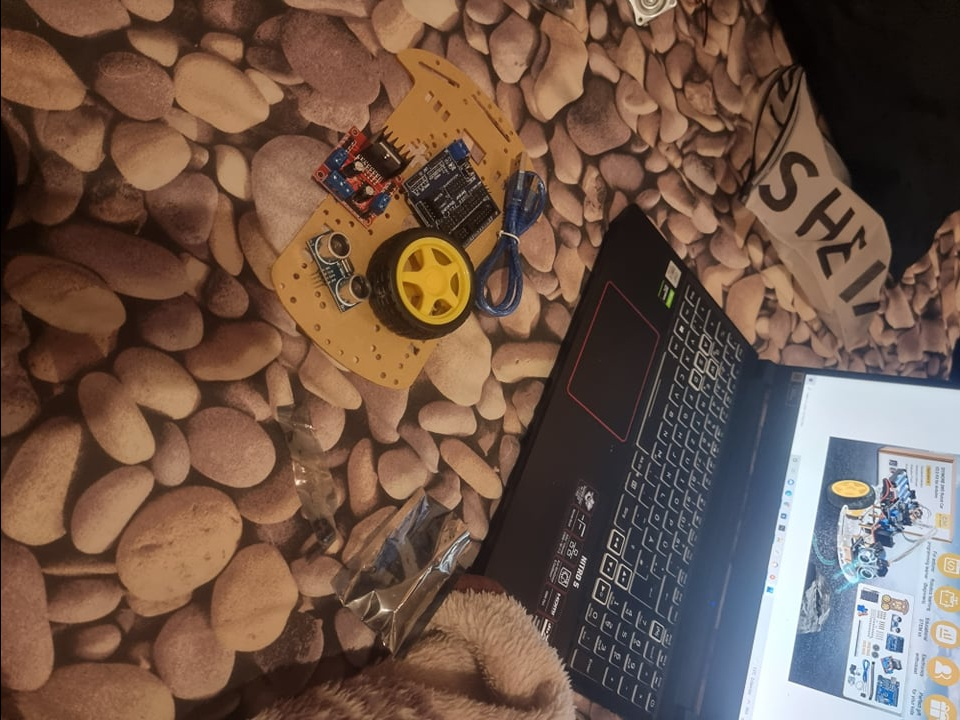5V EXPANSION: (402, 141, 503, 247)
MOTOR: (307, 122, 414, 225)
SENSOR: (309, 224, 368, 312), (853, 544, 876, 583), (888, 617, 903, 637)
UNO R3: (872, 677, 902, 705)
